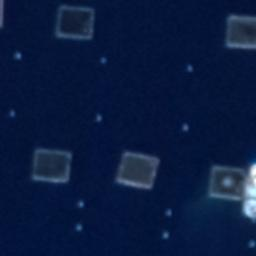square_cover: (111, 146, 162, 193), (29, 143, 78, 186), (51, 2, 99, 42), (207, 158, 248, 204), (223, 10, 256, 52)
